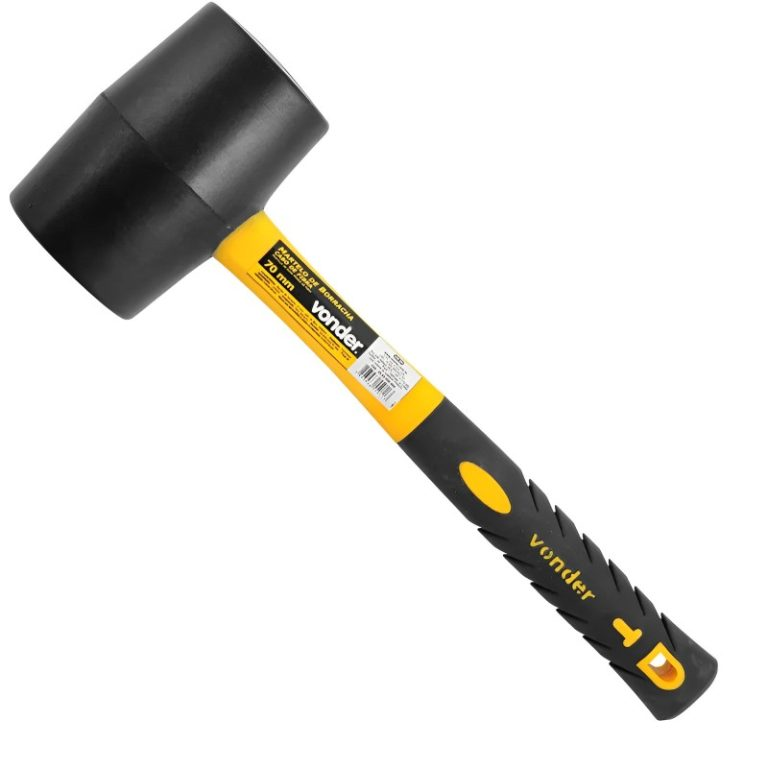chave_estrela: (6, 6, 721, 727)
